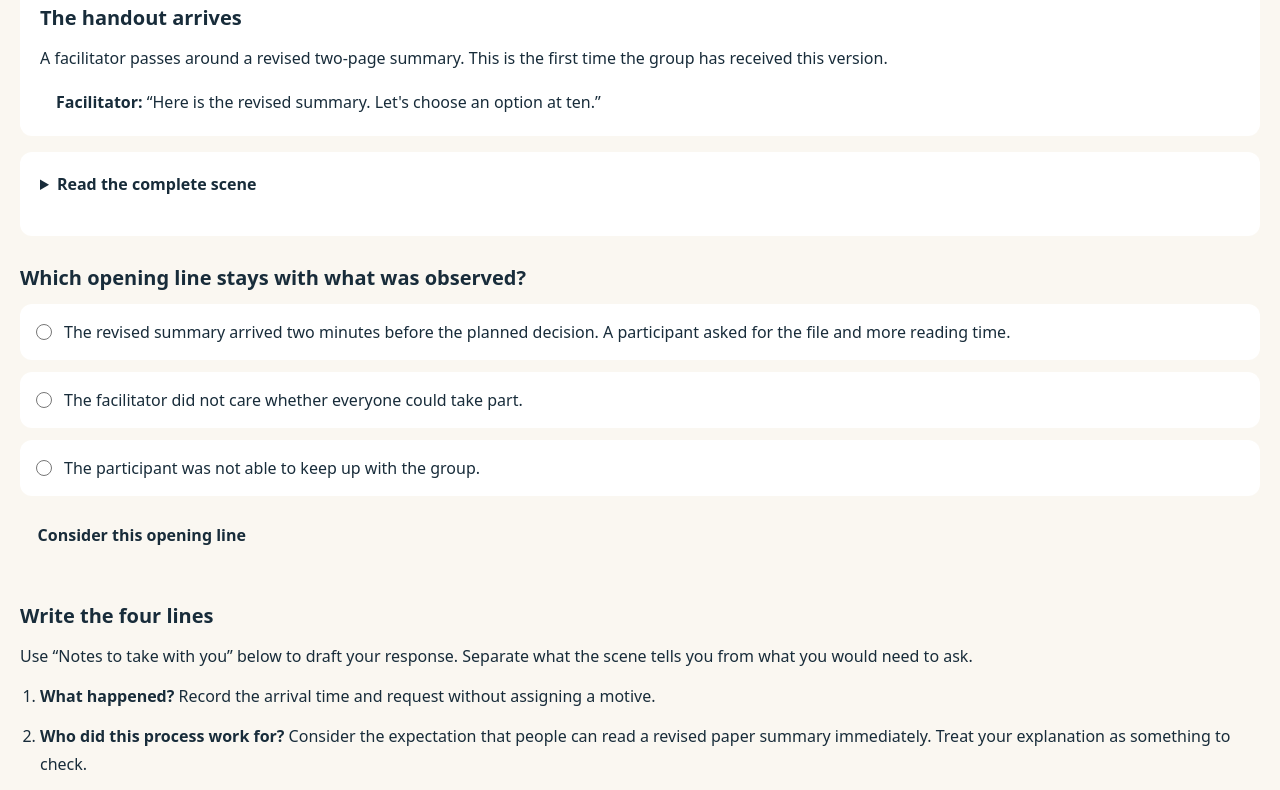
Test: distinguishes observed timing and a request from inferred motives and ability without recording a score
(page scrolled)
expect the button "Consider this opening line" is disabled: met, box 20,512 -> 264,558
Click the radio button labelled "The facilitator did not care" at (44, 400), box 36,392 -> 52,408
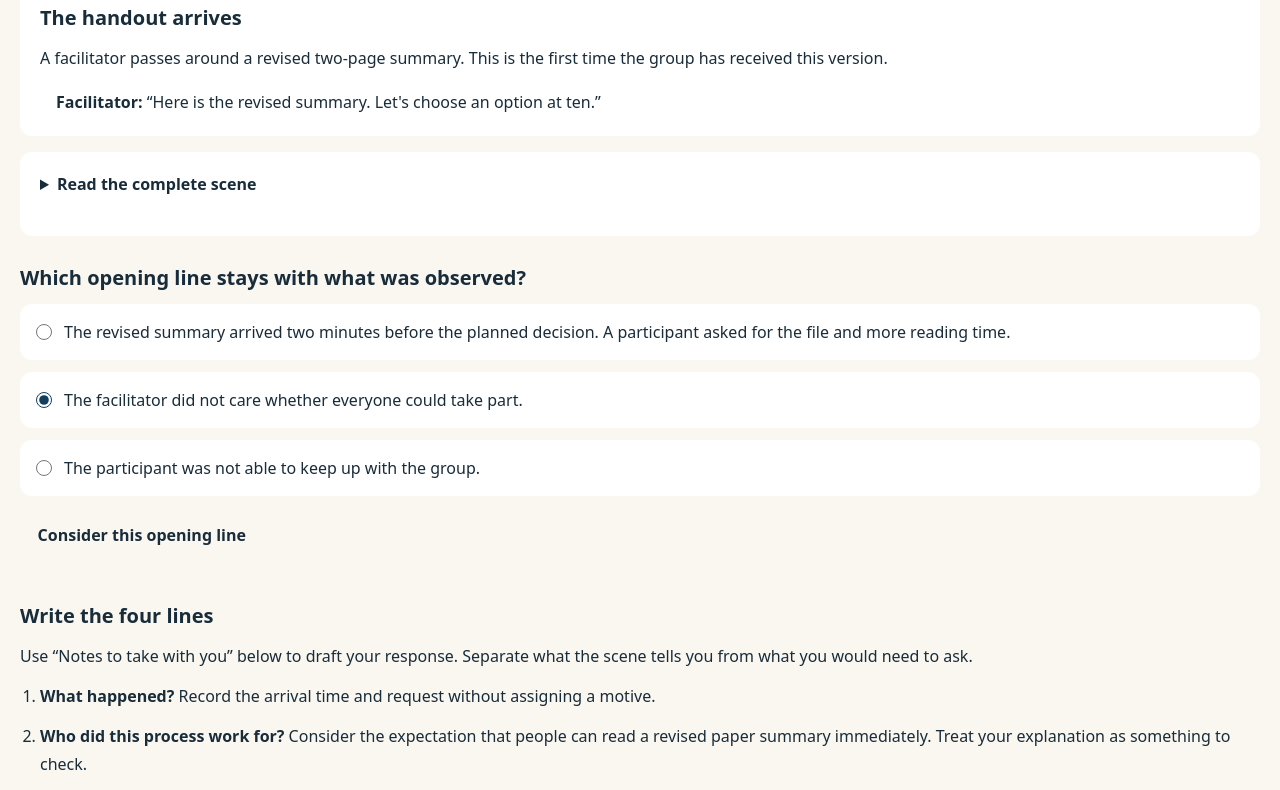
Click the button "Consider this opening line" at (142, 535), box 20,512 -> 264,558
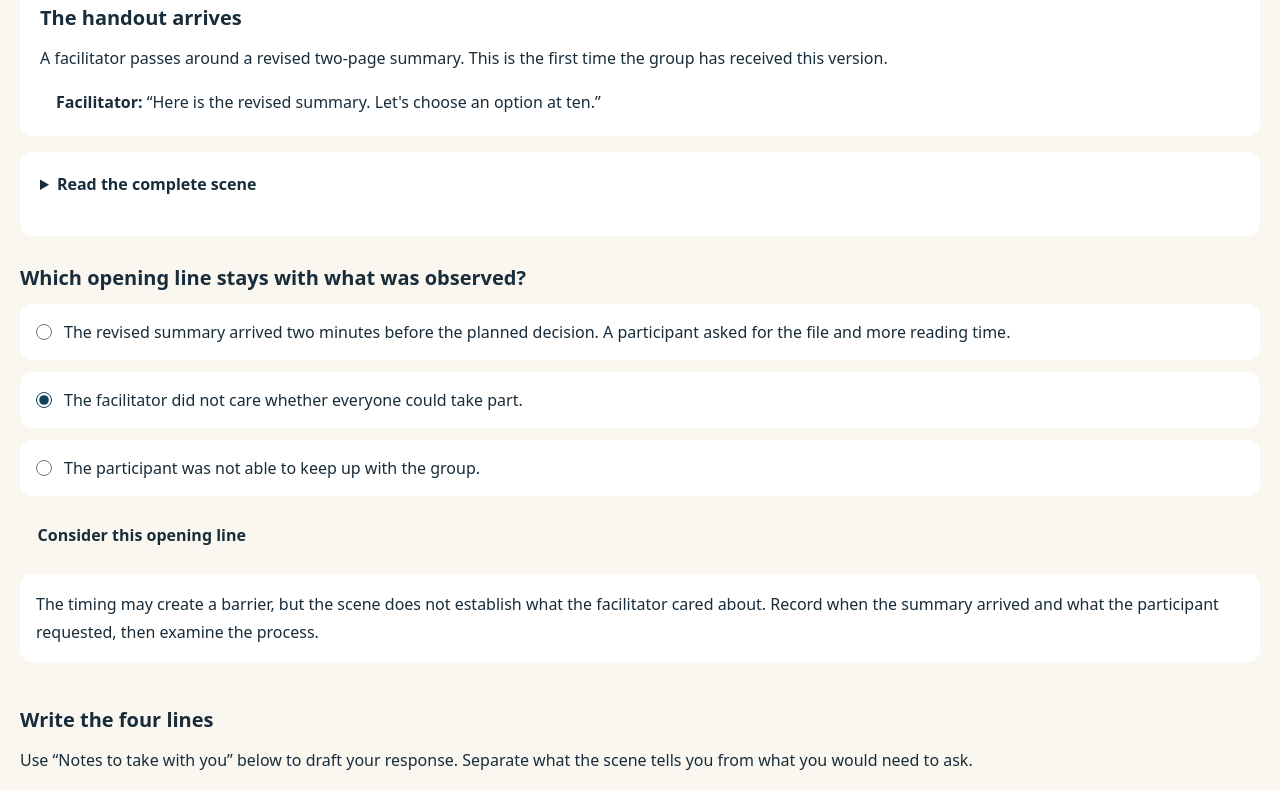
expect the text "the scene does not establish what the facilitator cared about" is shown: met, box 36,593 -> 1219,643
Click the radio button labelled "The participant was not able to keep up with the group." at (44, 468), box 36,460 -> 52,476
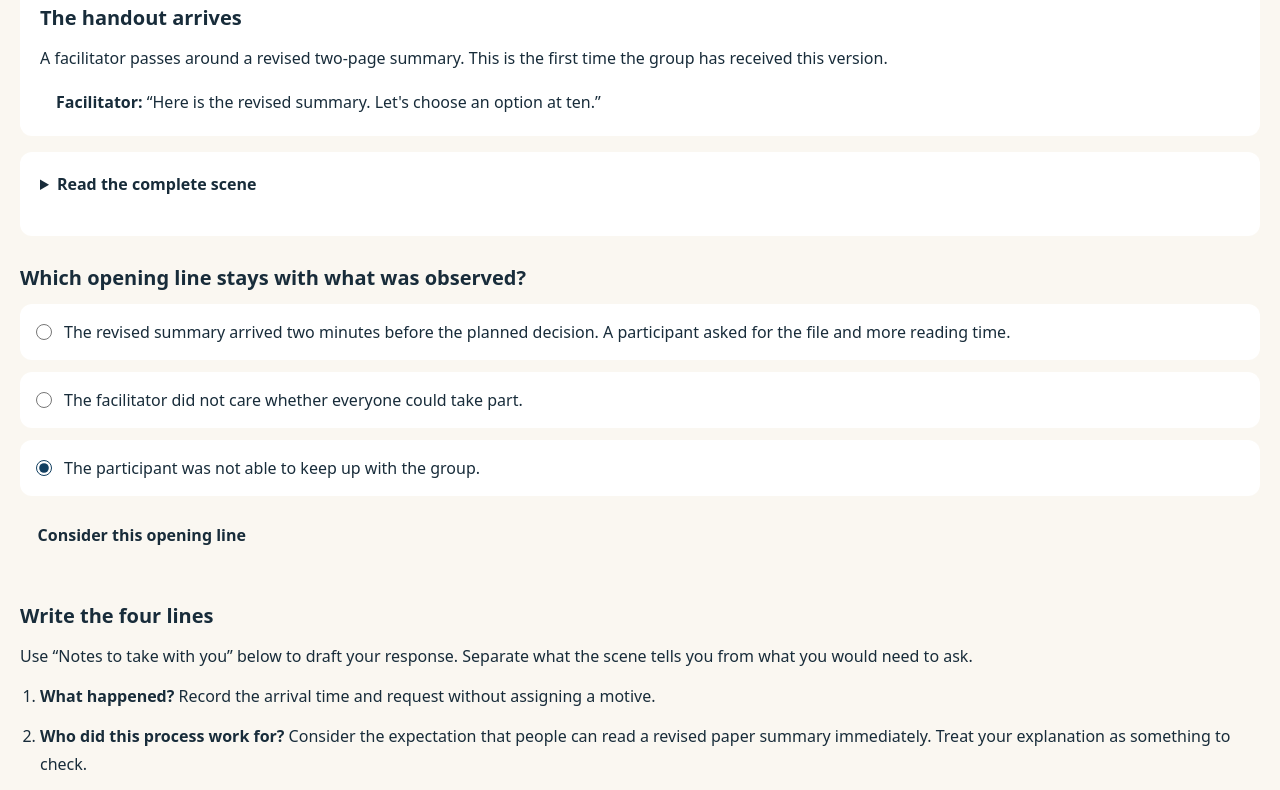
expect the text "the scene does not establish what the facilitator cared about" is gone: met
Click the button "Consider this opening line" at (142, 535), box 20,512 -> 264,558
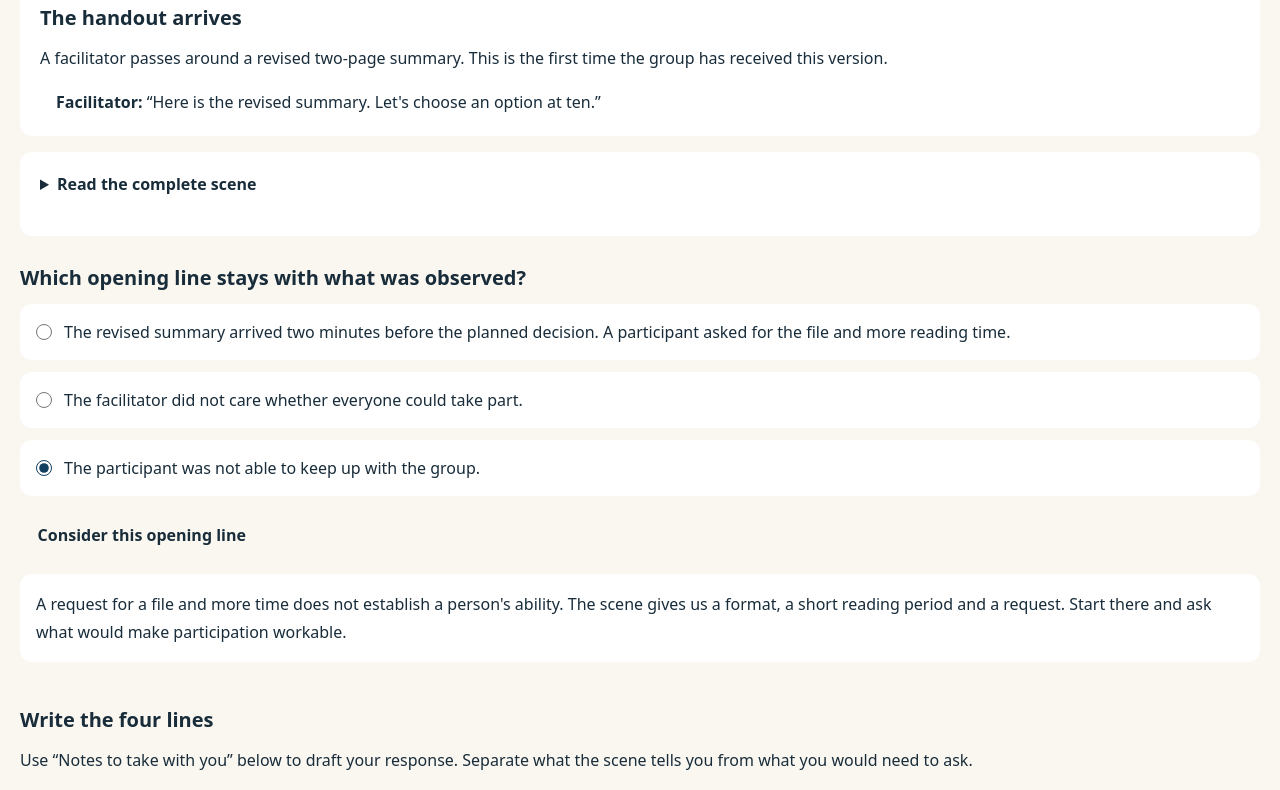
expect the text "does not establish a person's ability" is shown: met, box 36,593 -> 1212,643
Click the radio button labelled "The revised summary arrived two minutes" at (44, 332), box 36,324 -> 52,340
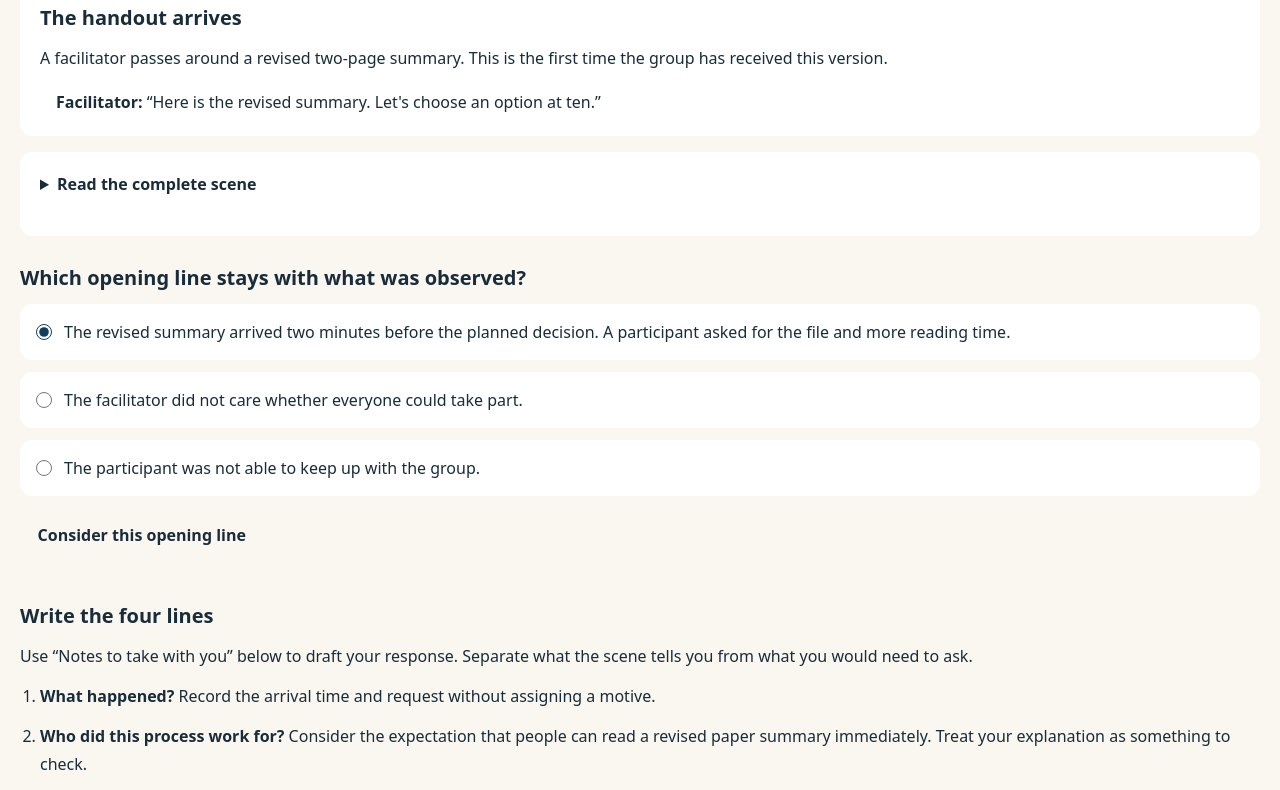
Click the button "Consider this opening line" at (142, 535), box 20,512 -> 264,558
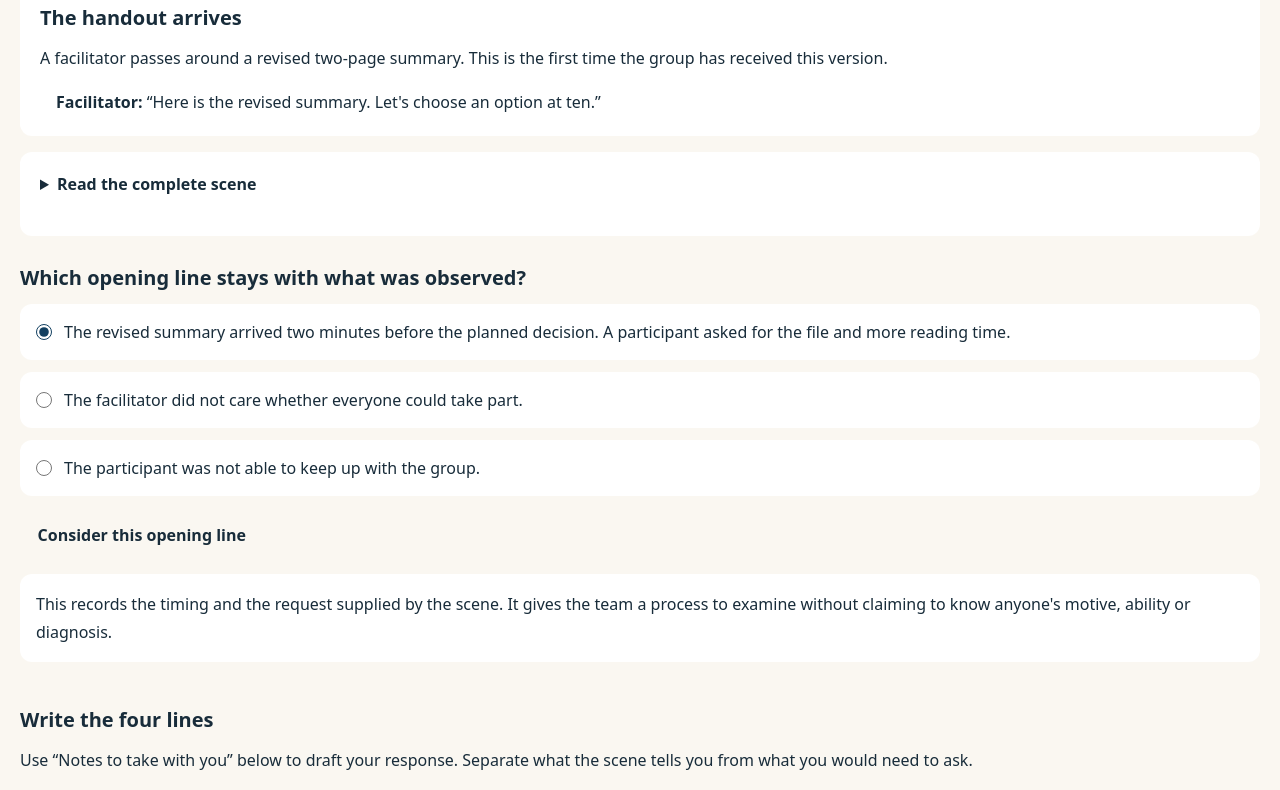
expect the text "Use “Notes to take with you” below" is shown: met, box 20,749 -> 973,771
expect the text "without claiming to know anyone's motive, ability or diagnosis" is shown: met, box 36,593 -> 1190,643
